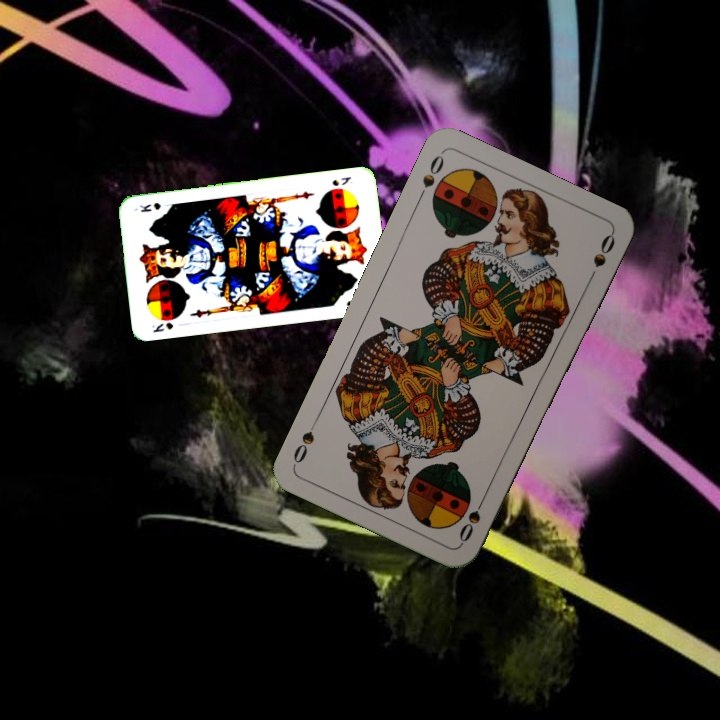SK: (148, 318, 176, 335), (328, 173, 354, 189)
SO: (455, 490, 489, 545), (413, 151, 447, 204)
